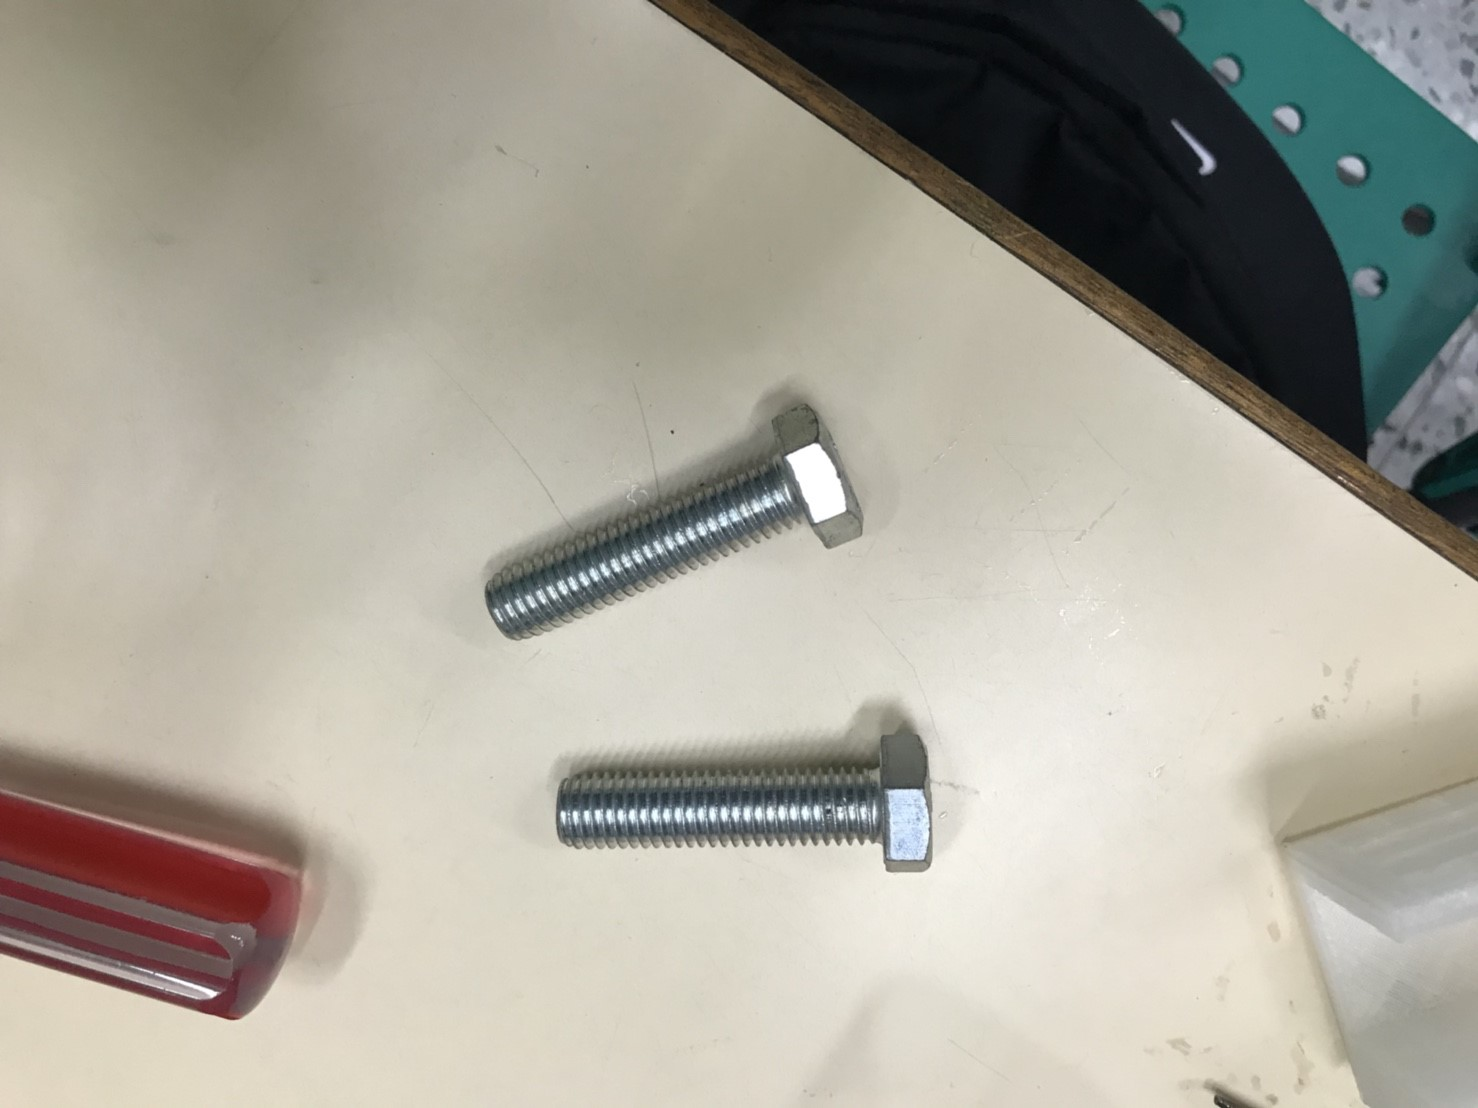screw: (463, 395, 886, 638), (546, 729, 941, 879)
